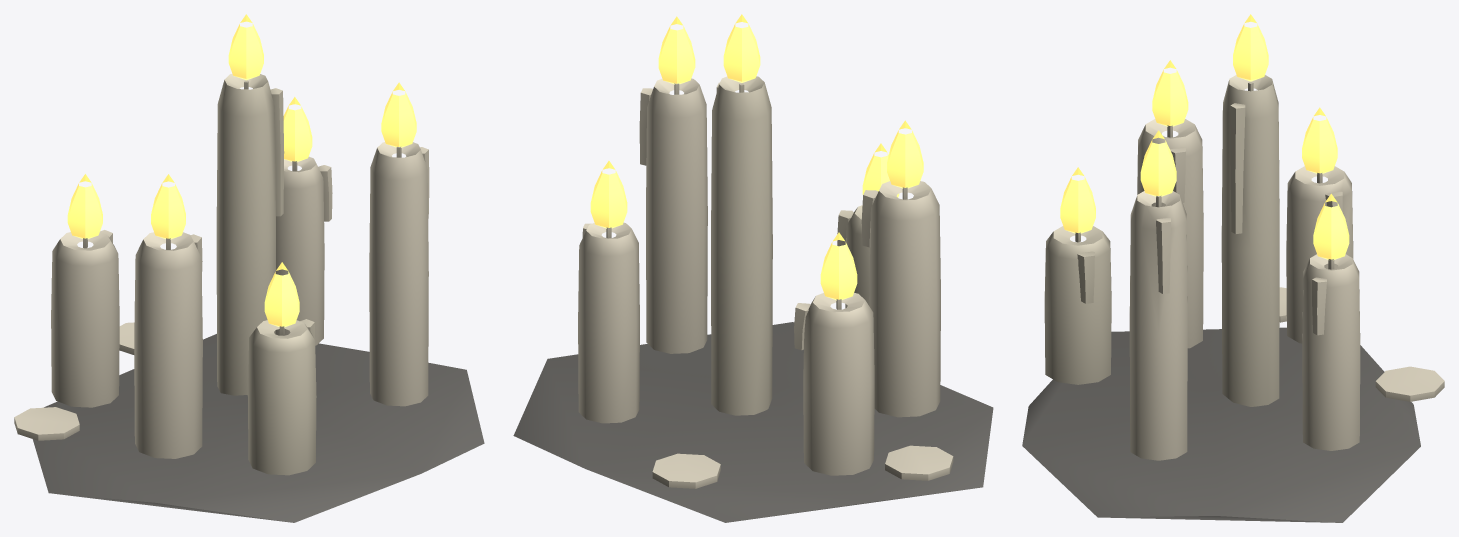
File: candle_cluster.glb
3 views of the same model, side by side, from view 1: azimuth 30°, elevation 25°; view 2: azimuth 150°, elevation 25°; view 3: azimuth 270°, elevation 25° (orthographic). The views are drawn at different scales.
Visible parts, largest first — view 1: candle_cluster, flame; view 2: candle_cluster, flame; view 3: candle_cluster, flame.
Part boxes in pixels (x1,y1,x2,y2): candle_cluster: [14, 74, 484, 522]; flame: [67, 14, 416, 327]; candle_cluster: [513, 76, 993, 522]; flame: [590, 14, 923, 300]; candle_cluster: [1022, 75, 1444, 522]; flame: [1060, 14, 1349, 260].
Bounding box in the file's own units: 0.4277 × 0.405 × 0.3672.
